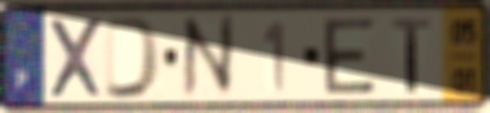1: (262, 18, 287, 94)
D: (103, 14, 164, 101)
E: (320, 15, 379, 97)
N: (179, 11, 238, 102)
T: (390, 16, 433, 96)
X: (46, 15, 106, 101)
